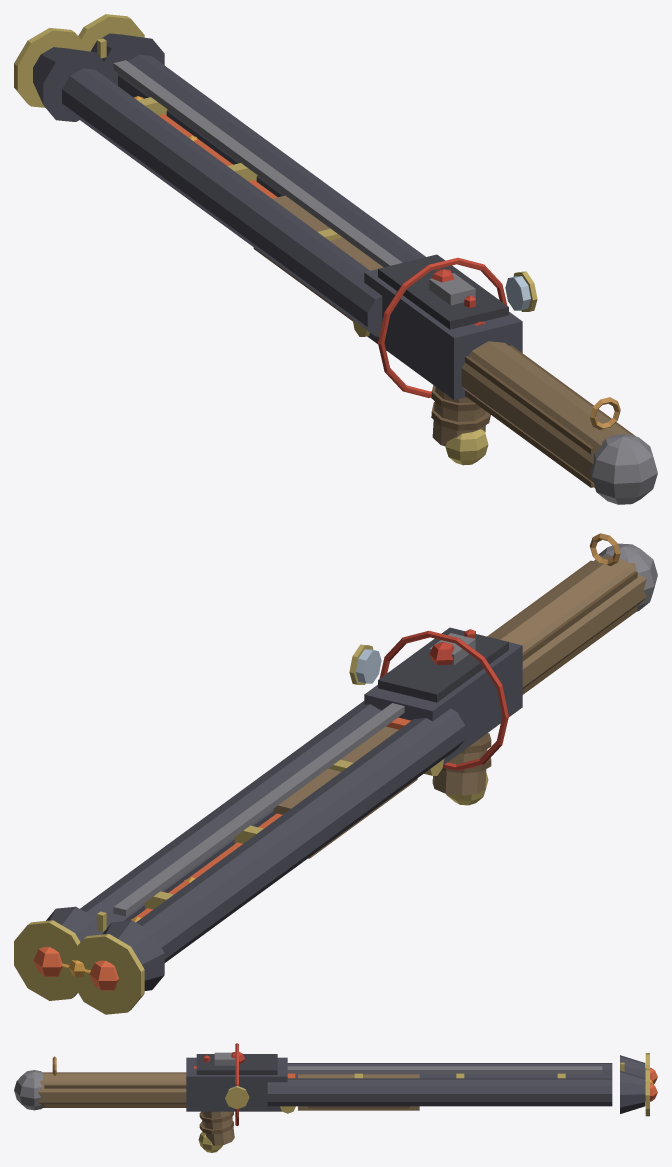
Rendered from ks23_molot.glb.
The picture shows the model from 3 angles, top to bottom: view 1: azimuth 30°, elevation 25°; view 2: azimuth 150°, elevation 25°; view 3: azimuth 270°, elevation 25°; orthographic projection. The views are drawn at different scales.
Visible parts, largest first — view 1: ks23_molot; view 2: ks23_molot; view 3: ks23_molot.
Boxes of the visible parts, x1,y1,x2,y2 form: ks23_molot: (14,14,657,504); ks23_molot: (14,533,657,1014); ks23_molot: (14,1043,657,1152).
Bounding box in the file's own units: 0.0955 × 0.1139 × 0.635.
